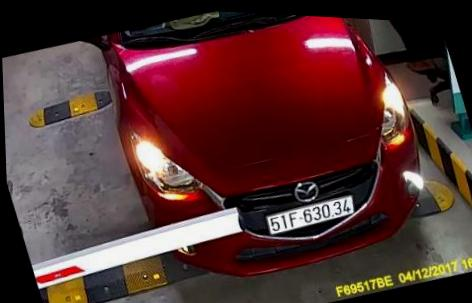License_Plate: (253, 187, 362, 242)
